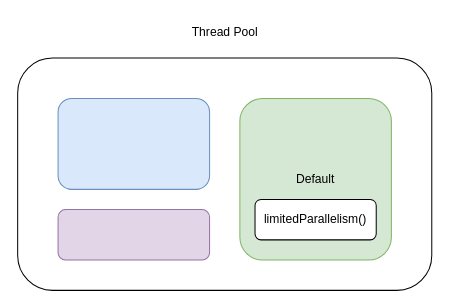
Image size: 449x308. Some labels were removed from this diagram. Each missing label, with the centre of its shape:
"IO" goes at (133,143).
"IO.limitedParallelism()" goes at (133,234).
